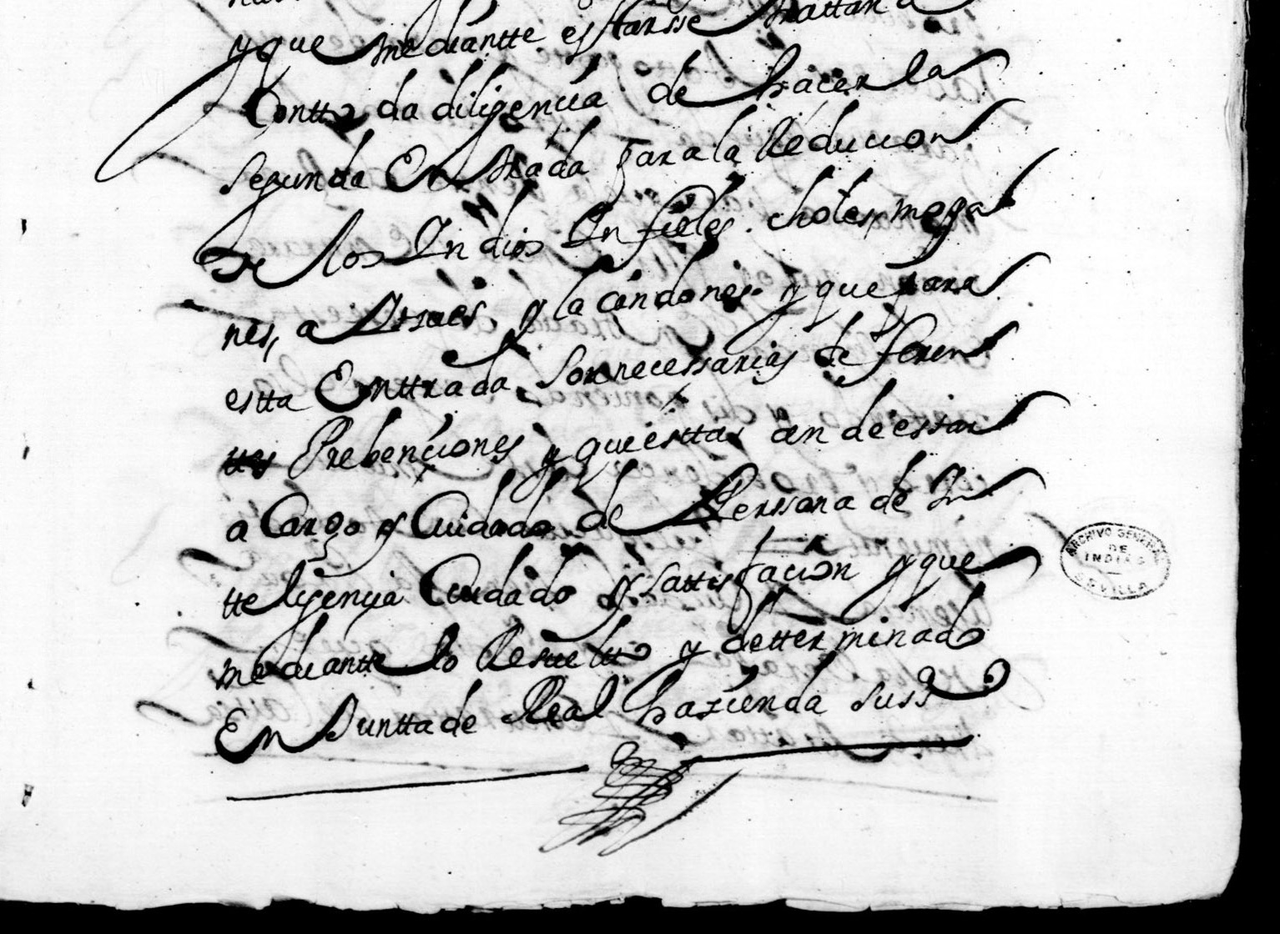lacandon: (552, 239, 753, 321)
